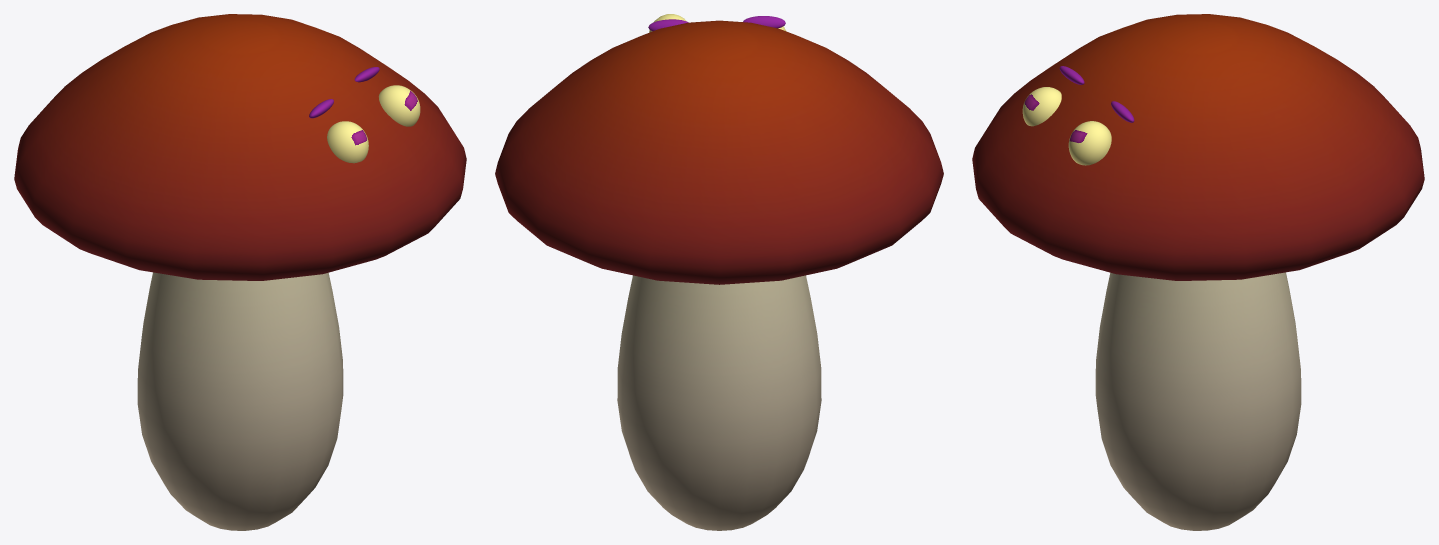
Rendered from SM_Mushroom.fbx.
3 views of the same model, side by side, from view 1: azimuth 30°, elevation 25°; view 2: azimuth 150°, elevation 25°; view 3: azimuth 270°, elevation 25° (orthographic).
Visible parts, largest first — view 1: SM_Mushroom; view 2: SM_Mushroom; view 3: SM_Mushroom.
Boxes of the visible parts, x1=… form: SM_Mushroom: x1=14, y1=14, x2=466, y2=530; SM_Mushroom: x1=495, y1=14, x2=943, y2=530; SM_Mushroom: x1=972, y1=14, x2=1424, y2=530.
Bounding box in the file's own units: 160 × 192 × 160.
